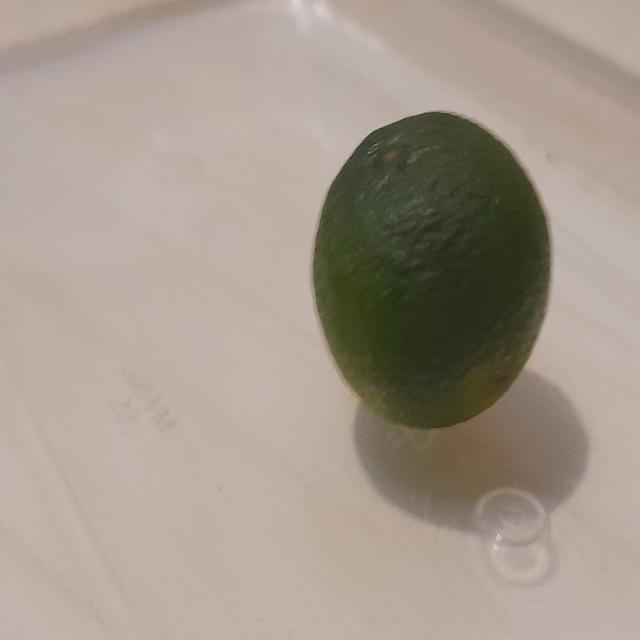heathy: (305, 107, 556, 442)
